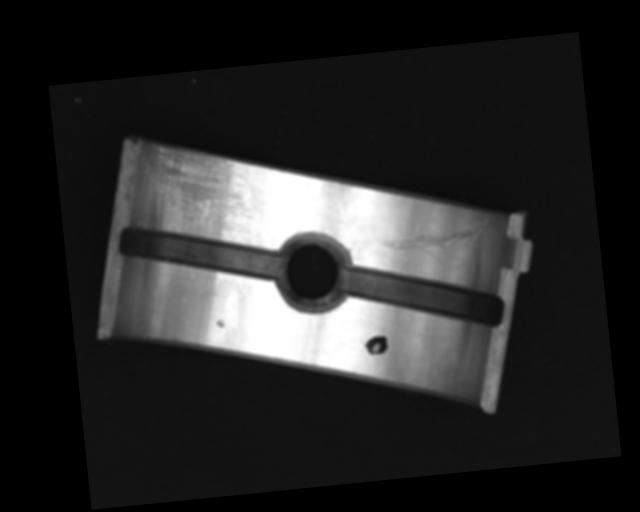blot: (363, 334, 390, 357)
bruise: (215, 319, 226, 328)
gap: (339, 250, 507, 344), (115, 212, 283, 294)
hole: (271, 229, 354, 312)
nick: (378, 219, 493, 272)
scratch: (144, 136, 255, 243)
